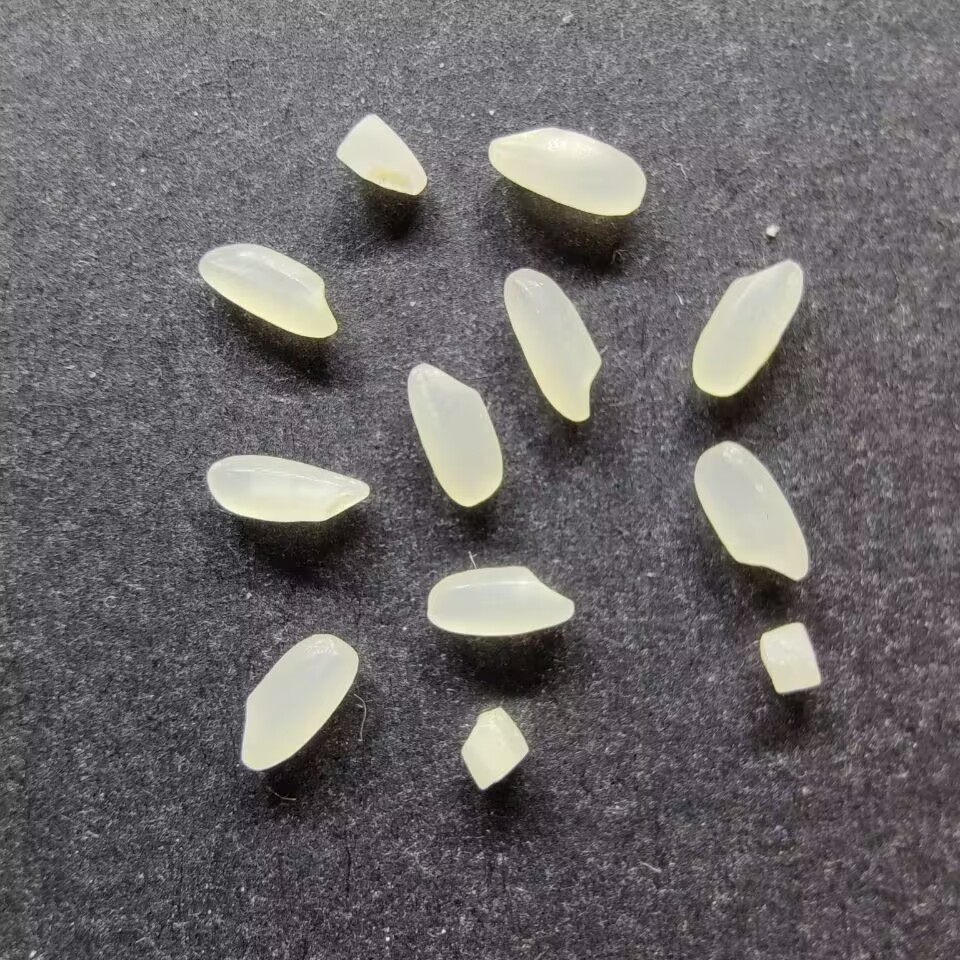broken: (335, 113, 428, 196), (460, 707, 529, 791), (759, 621, 820, 694)
rice: (239, 632, 358, 771), (693, 440, 809, 581), (691, 259, 804, 397), (503, 267, 601, 422), (406, 361, 503, 507), (487, 127, 645, 216), (197, 243, 339, 338), (206, 454, 370, 523), (425, 564, 574, 637)
